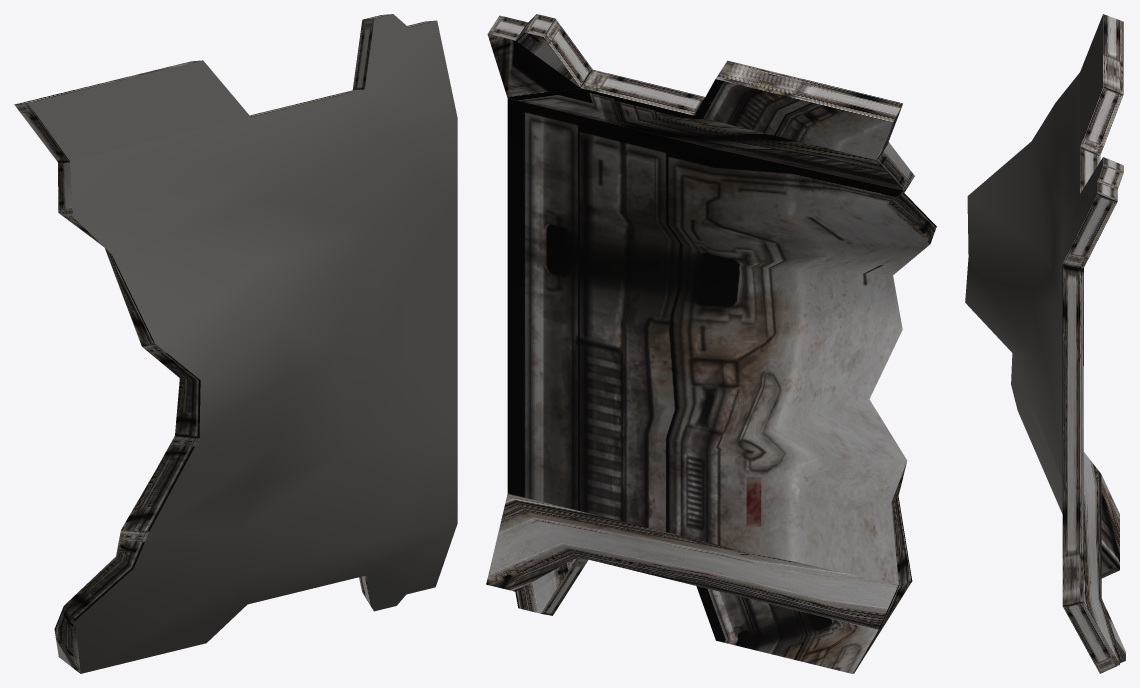
The model's file is theta_ground_plate_broken01.dae.
The picture shows the model from 3 angles, left to right: view 1: azimuth 30°, elevation 25°; view 2: azimuth 150°, elevation 25°; view 3: azimuth 270°, elevation 25°; orthographic projection. The views are drawn at different scales.
Parts seen in each view (by area): view 1: polySurface37; view 2: polySurface37; view 3: polySurface37.
Part boxes in pixels (box(x1,y1,x2,y2)): polySurface37: box(14, 14, 457, 673); polySurface37: box(486, 14, 936, 673); polySurface37: box(965, 14, 1125, 673).
Size of the model in its own units: 1.63 by 2.28 by 0.6598.
